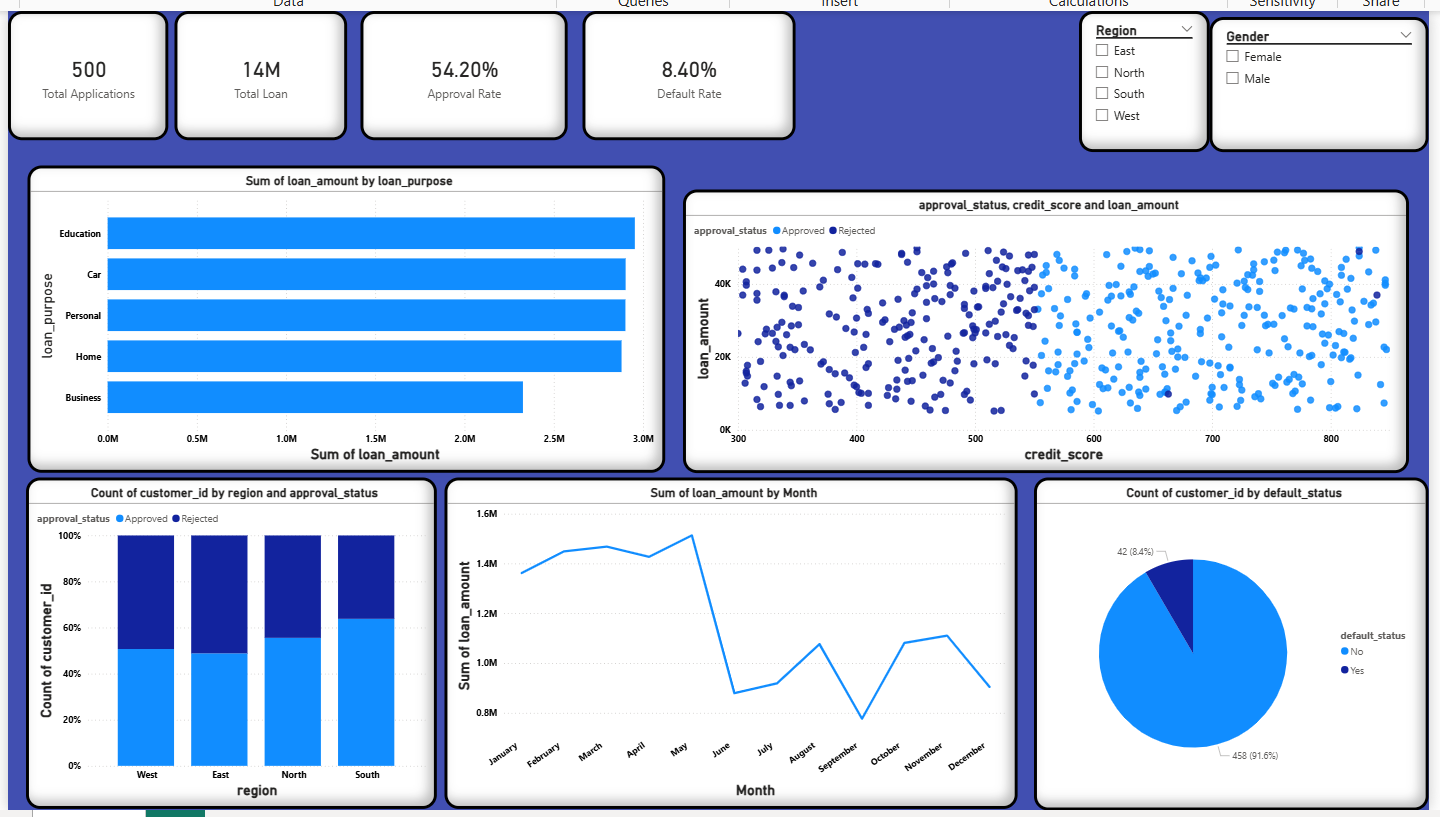

What the dashboard file says about the page in this screenshot:
{"tool":"powerbi","page":{"name":"Page 1","canvas":[1920,1080],"ordinal":0},"visuals":[{"type":"card","fields":{"Values":["bank_loan_dataset.Total Applications"]},"box":[0,0,202.1,191.7],"z":0},{"type":"card","fields":{"Values":["bank_loan_dataset.Total Loan"]},"box":[202.1,2.1,177.1,189.6],"z":1000},{"type":"card","fields":{"Values":["bank_loan_dataset.Approval Rate"]},"box":[379.2,0,168.8,189.6],"z":2000},{"type":"card","fields":{"Values":["bank_loan_dataset.Default Rate"]},"box":[547.9,0,204.2,170.8],"z":3000},{"type":"barChart","fields":{"Category":["bank_loan_dataset.loan_purpose"],"Y":["Sum(bank_loan_dataset.loan_amount)"]},"box":[25,239.6,831.2,366.7],"z":4000},{"type":"hundredPercentStackedColumnChart","fields":{"Y":["CountNonNull(bank_loan_dataset.customer_id)"],"Series":["bank_loan_dataset.approval_status"],"Category":["bank_loan_dataset.region"]},"box":[25,620.8,837.5,458.3],"z":5000},{"type":"lineChart","fields":{"Y":["Sum(bank_loan_dataset.loan_amount)"],"Category":["bank_loan_dataset.application_date.Variation.Date Hierarchy.Month"]},"box":[864.6,239.6,643.8,391.7],"z":6000},{"type":"scatterChart","fields":{"X":["bank_loan_dataset.credit_score"],"Y":["bank_loan_dataset.loan_amount"],"Series":["bank_loan_dataset.approval_status"]},"box":[960,650,924,430],"z":7000},{"type":"pieChart","fields":{"Category":["bank_loan_dataset.default_status"],"Y":["CountNonNull(bank_loan_dataset.customer_id)"]},"box":[1508.3,0,397.9,389.6],"z":8000},{"type":"slicer","fields":{"Values":["bank_loan_dataset.region"]},"box":[993.8,0,177.1,189.6],"z":8001},{"type":"slicer","fields":{"Values":["bank_loan_dataset.gender"]},"box":[1187.5,0,235.4,133.3],"z":8002}]}

Visuals, with their boxes in screenshot pixels (x1, y1, x2, y2):
card - bank_loan_dataset.Total Applications: bbox=(22, 8, 172, 149)
card - bank_loan_dataset.Total Loan: bbox=(172, 9, 303, 149)
card - bank_loan_dataset.Approval Rate: bbox=(303, 8, 428, 148)
card - bank_loan_dataset.Default Rate: bbox=(428, 8, 579, 134)
barChart - bank_loan_dataset.loan_purpose x Sum(bank_loan_dataset.loan_amount): bbox=(41, 185, 656, 456)
hundredPercentStackedColumnChart - CountNonNull(bank_loan_dataset.customer_id) x bank_loan_dataset.approval_status: bbox=(41, 467, 660, 806)
lineChart - Sum(bank_loan_dataset.loan_amount) x bank_loan_dataset.application_date.Variation.Date Hierarchy.Month: bbox=(662, 185, 1138, 474)
scatterChart - bank_loan_dataset.credit_score x bank_loan_dataset.loan_amount: bbox=(733, 488, 1416, 806)
pieChart - bank_loan_dataset.default_status x CountNonNull(bank_loan_dataset.customer_id): bbox=(1138, 8, 1432, 296)
slicer - bank_loan_dataset.region: bbox=(758, 8, 889, 148)
slicer - bank_loan_dataset.gender: bbox=(901, 8, 1075, 106)
